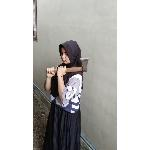Kapak: (46, 55, 92, 77)
